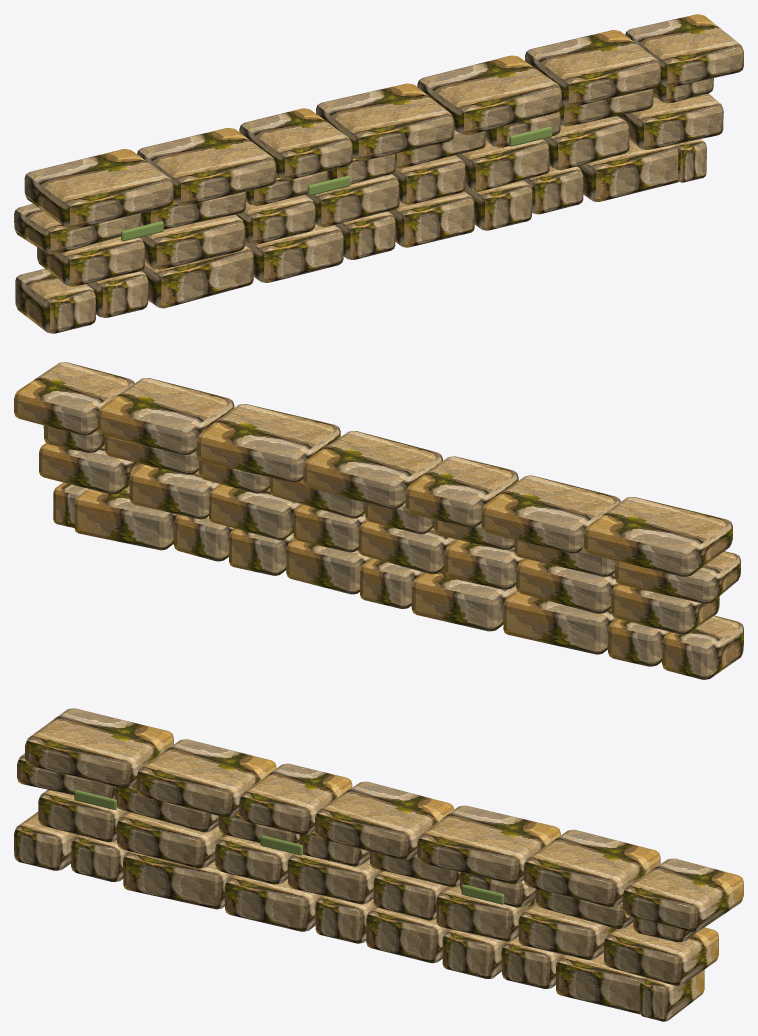
File: dry_stone_wall.glb
3 views of the same model, one above another, from view 1: azimuth 30°, elevation 25°; view 2: azimuth 150°, elevation 25°; view 3: azimuth 330°, elevation 25° (orthographic).
Parts seen in each view (by area): view 1: Broad uneven capstone, Broad uneven capstone.004, Broad uneven capstone.003, Broad uneven capstone.001, Broad uneven capstone.005, Broad uneven capstone.006, Broad uneven capstone.002, Irregular hand-stacked stone.002, Irregular hand-stacked stone.008, Irregular hand-stacked stone.017, Irregular hand-stacked stone, Irregular hand-stacked stone.011 (+21 smaller); view 2: Broad uneven capstone, Broad uneven capstone.004, Broad uneven capstone.003, Broad uneven capstone.001, Broad uneven capstone.005, Broad uneven capstone.006, Broad uneven capstone.002, Irregular hand-stacked stone.002, Irregular hand-stacked stone.008, Irregular hand-stacked stone.003, Irregular hand-stacked stone, Irregular hand-stacked stone.011 (+21 smaller); view 3: Broad uneven capstone, Broad uneven capstone.004, Broad uneven capstone.001, Broad uneven capstone.005, Broad uneven capstone.003, Broad uneven capstone.006, Broad uneven capstone.002, Irregular hand-stacked stone.017, Irregular hand-stacked stone.002, Irregular hand-stacked stone.011, Irregular hand-stacked stone.003, Irregular hand-stacked stone.008 (+21 smaller).
Part boxes in pixels (bbox=[...]): Broad uneven capstone: bbox=[24, 149, 173, 229]; Broad uneven capstone.004: bbox=[417, 55, 561, 134]; Broad uneven capstone.003: bbox=[316, 83, 454, 160]; Broad uneven capstone.001: bbox=[137, 128, 276, 205]; Broad uneven capstone.005: bbox=[525, 30, 660, 106]; Broad uneven capstone.006: bbox=[625, 14, 743, 87]; Broad uneven capstone.002: bbox=[239, 108, 352, 179]; Irregular hand-stacked stone.002: bbox=[141, 245, 253, 308]; Irregular hand-stacked stone.008: bbox=[577, 139, 678, 201]; Irregular hand-stacked stone.017: bbox=[618, 93, 723, 149]; Irregular hand-stacked stone: bbox=[15, 268, 95, 333]; Irregular hand-stacked stone.011: bbox=[139, 214, 245, 269]; Broad uneven capstone: bbox=[584, 497, 732, 576]; Broad uneven capstone.004: bbox=[197, 404, 340, 482]; Broad uneven capstone.003: bbox=[303, 431, 442, 509]; Broad uneven capstone.001: bbox=[481, 475, 620, 553]; Broad uneven capstone.005: bbox=[97, 378, 234, 455]; Broad uneven capstone.006: bbox=[14, 362, 134, 435]; Broad uneven capstone.002: bbox=[405, 456, 518, 527]; Irregular hand-stacked stone.002: bbox=[503, 590, 616, 654]; Irregular hand-stacked stone.008: bbox=[74, 486, 177, 550]; Irregular hand-stacked stone.003: bbox=[411, 569, 516, 631]; Irregular hand-stacked stone: bbox=[662, 615, 743, 679]; Irregular hand-stacked stone.011: bbox=[516, 558, 618, 613]; Broad uneven capstone: bbox=[25, 708, 173, 788]; Broad uneven capstone.004: bbox=[417, 805, 560, 884]; Broad uneven capstone.001: bbox=[136, 739, 276, 817]; Broad uneven capstone.005: bbox=[523, 829, 660, 907]; Broad uneven capstone.003: bbox=[315, 781, 454, 859]; Broad uneven capstone.006: bbox=[622, 858, 743, 931]; Broad uneven capstone.002: bbox=[239, 763, 352, 834]; Irregular hand-stacked stone.017: bbox=[603, 922, 718, 985]; Irregular hand-stacked stone.002: bbox=[123, 851, 232, 909]; Irregular hand-stacked stone.011: bbox=[116, 811, 225, 868]; Irregular hand-stacked stone.003: bbox=[224, 874, 322, 931]; Irregular hand-stacked stone.008: bbox=[556, 952, 645, 1014].
Size of the model in its own units: 6.9 by 1.26 by 0.8487.
Materials: 2 (1 with a texture image).
